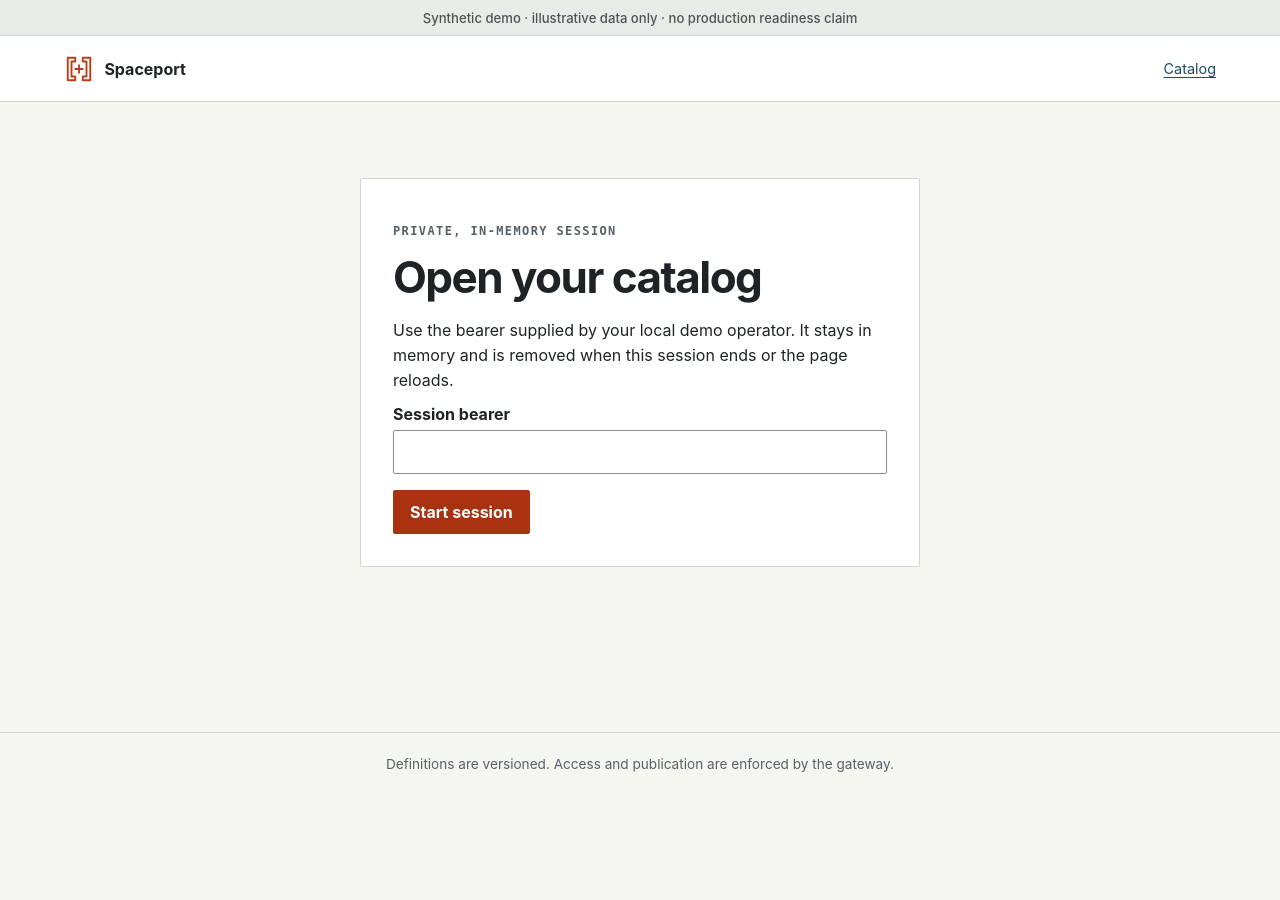
uses neutral errors and hides raw server messages
In the password field labelled "Session bearer": (640, 452) x1=393 y1=430 x2=887 y2=474, type "synthetic-test"
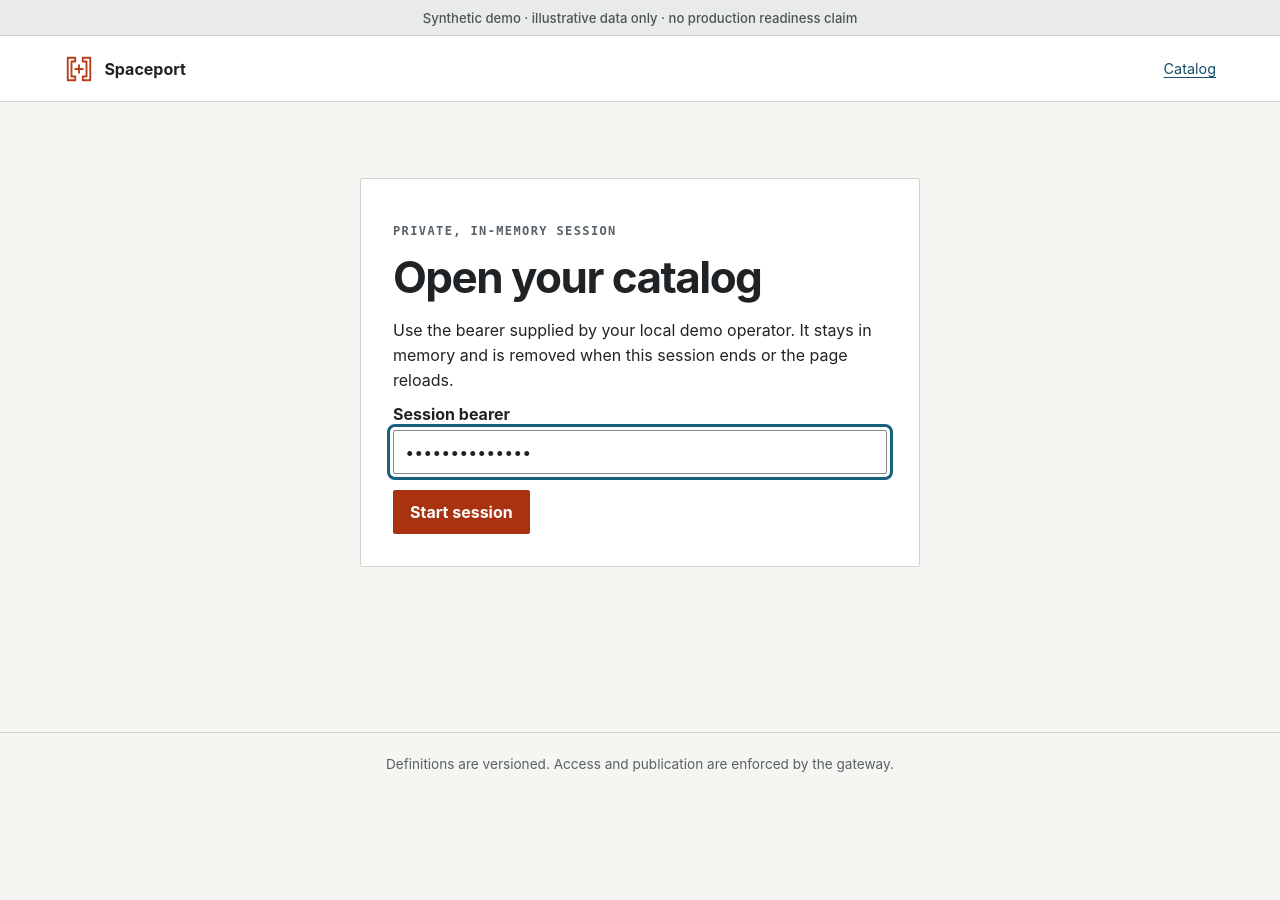
Click the button "Start session": (461, 512) x1=393 y1=490 x2=530 y2=534
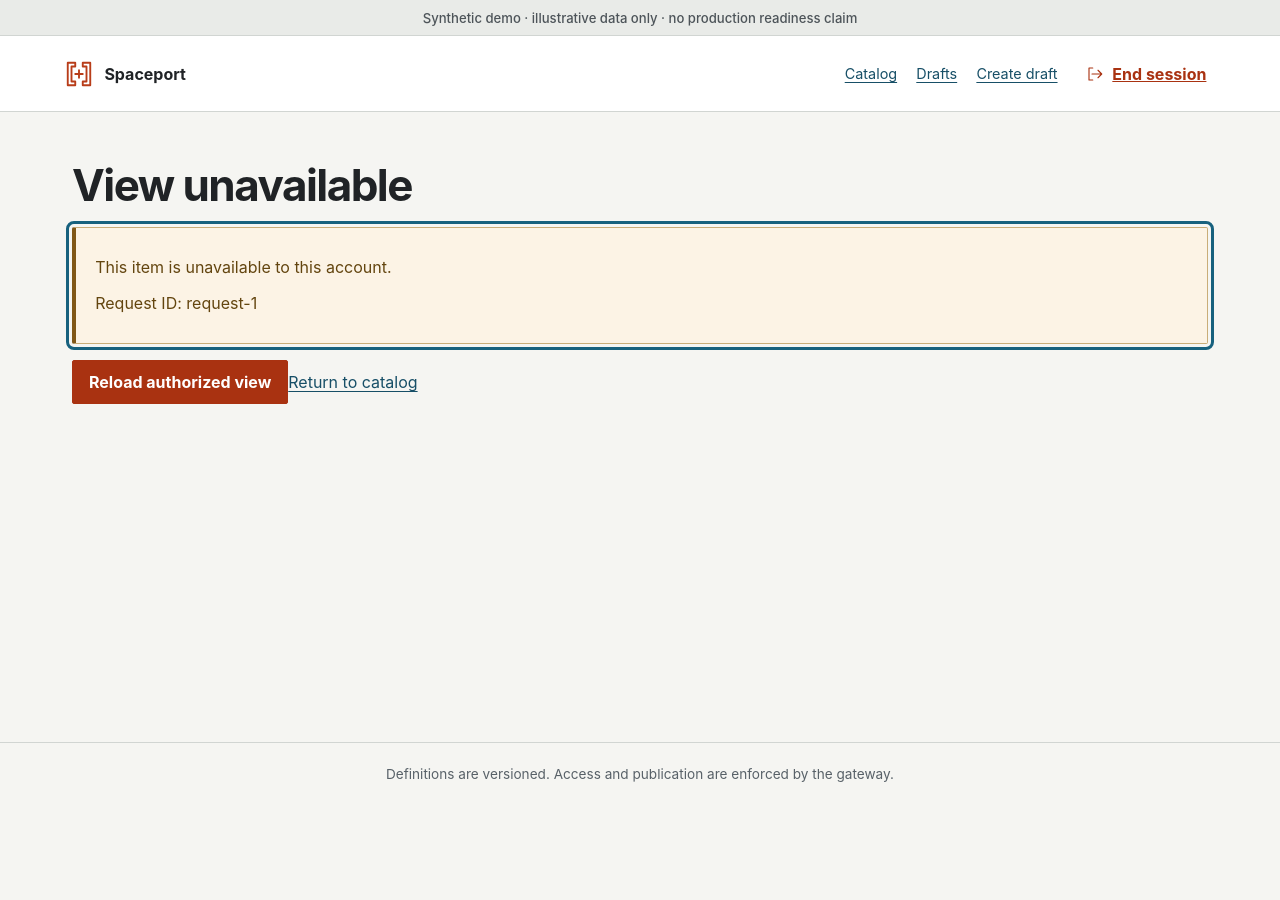
Now the message shows "This item is unavailable to this account.", box x1=95 y1=257 x2=392 y2=277
Now the message shows "request-1", box x1=186 y1=293 x2=257 y2=313
